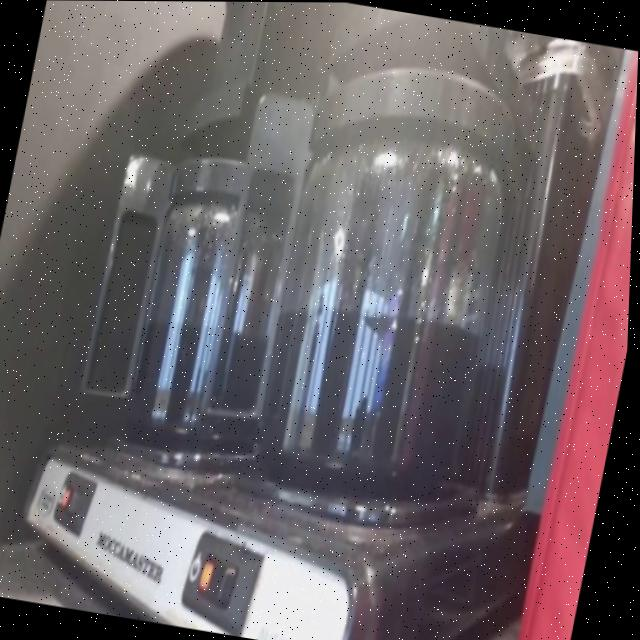coffee: (243, 59, 539, 527), (102, 117, 343, 467)
